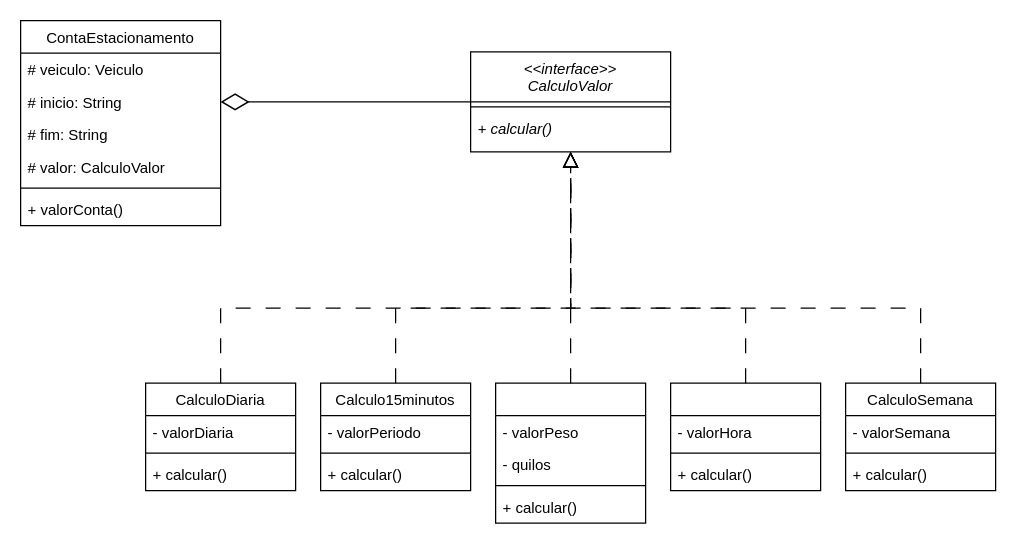
Some shapes in this 1016 by 544 pixel diagram are drawn without their labels. Each missing label, with the box of its shape:
CalculoCarga: (494, 382, 646, 523)
CalculoHora: (669, 382, 821, 491)
